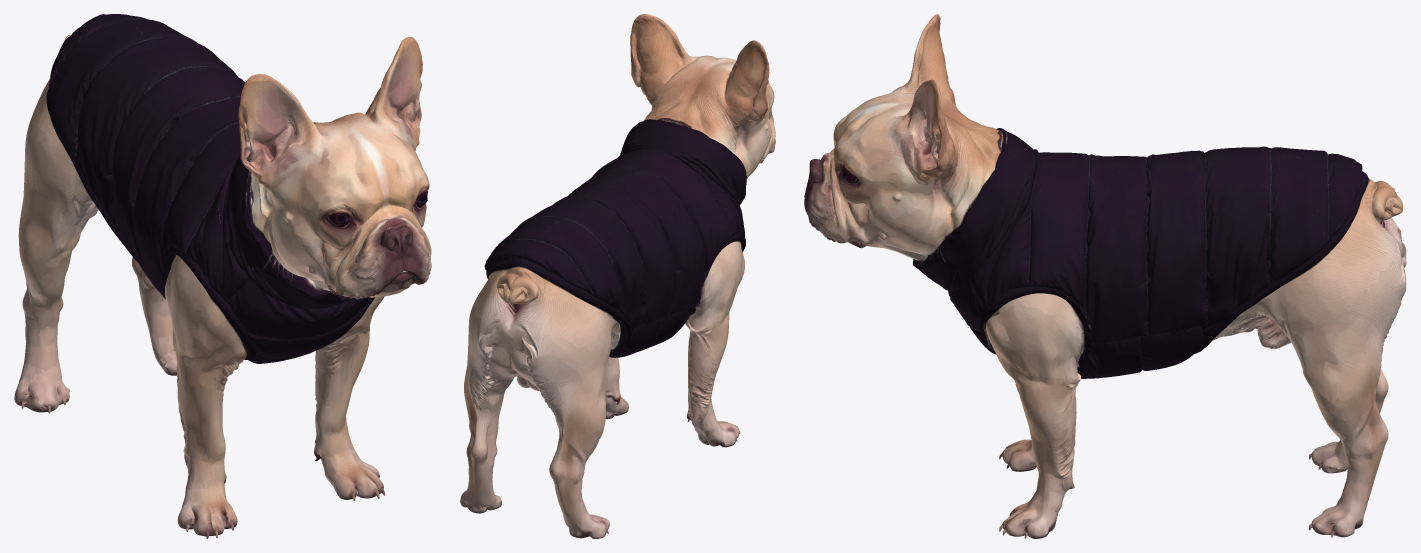
File: zhuangzhuang-standing-black-puffer.glb
The picture shows the model from 3 angles, left to right: view 1: azimuth 30°, elevation 25°; view 2: azimuth 150°, elevation 25°; view 3: azimuth 270°, elevation 25°; orthographic projection. The views are drawn at different scales.
Visible parts, largest first — view 1: Mesh_0; view 2: Mesh_0; view 3: Mesh_0.
Part boxes in pixels (box(x1,y1,x2,y2)): Mesh_0: box(14, 14, 431, 538); Mesh_0: box(460, 14, 775, 538); Mesh_0: box(804, 14, 1406, 538).
Bounding box in the file's own units: 0.1723 × 0.4 × 0.4881.
Materials: 1 (1 with a texture image).
